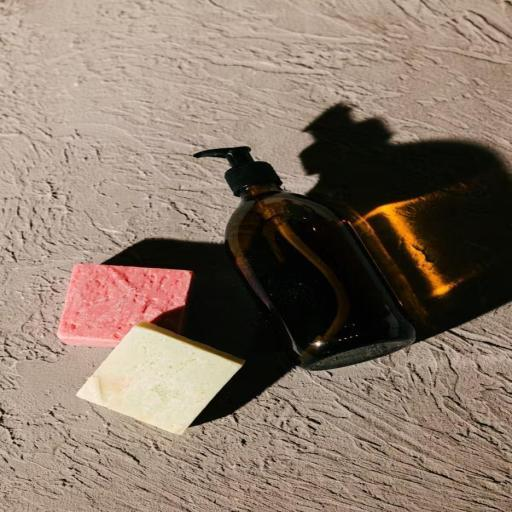bottle: (184, 130, 426, 365)
